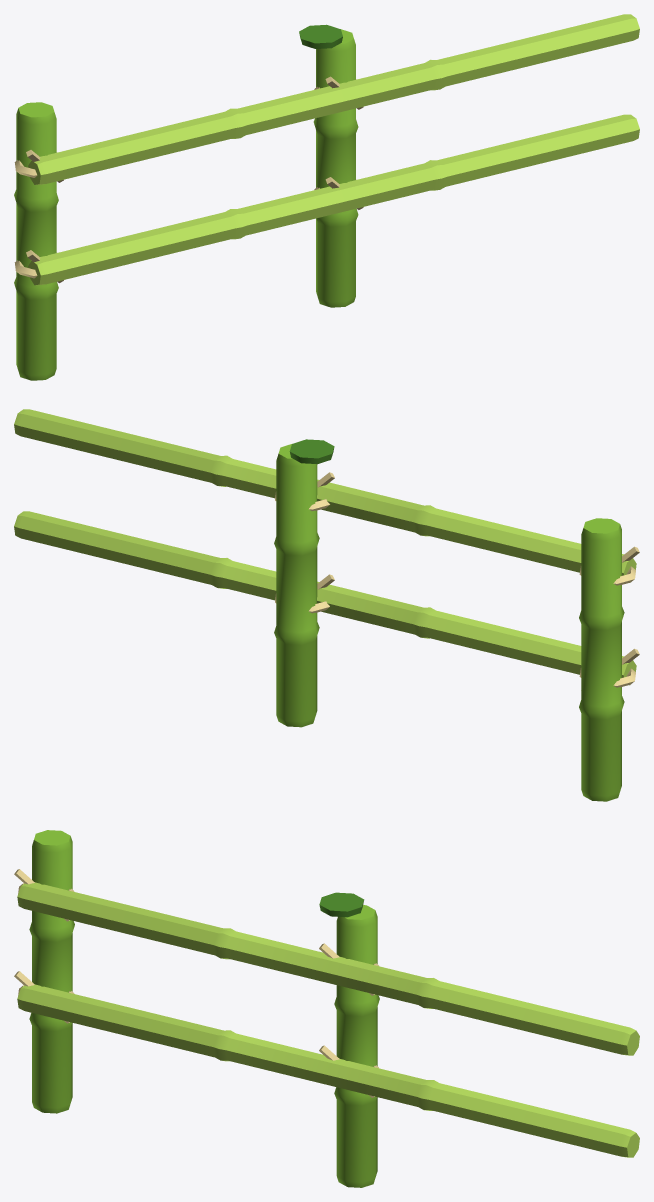
The model's file is fence_bamboo.glb.
3 renders of one model, top to bottom at view 1: azimuth 30°, elevation 25°; view 2: azimuth 150°, elevation 25°; view 3: azimuth 330°, elevation 25°, orthographic.
Visible parts, largest first — view 1: fence_bamboo; view 2: fence_bamboo; view 3: fence_bamboo.
Boxes of the visible parts, left/top/right/bottom form: fence_bamboo: left=14, top=14, right=639, bottom=380; fence_bamboo: left=14, top=409, right=639, bottom=801; fence_bamboo: left=14, top=830, right=639, bottom=1187.
Size of the model in its own units: 2.04 by 0.86 by 0.1881.
